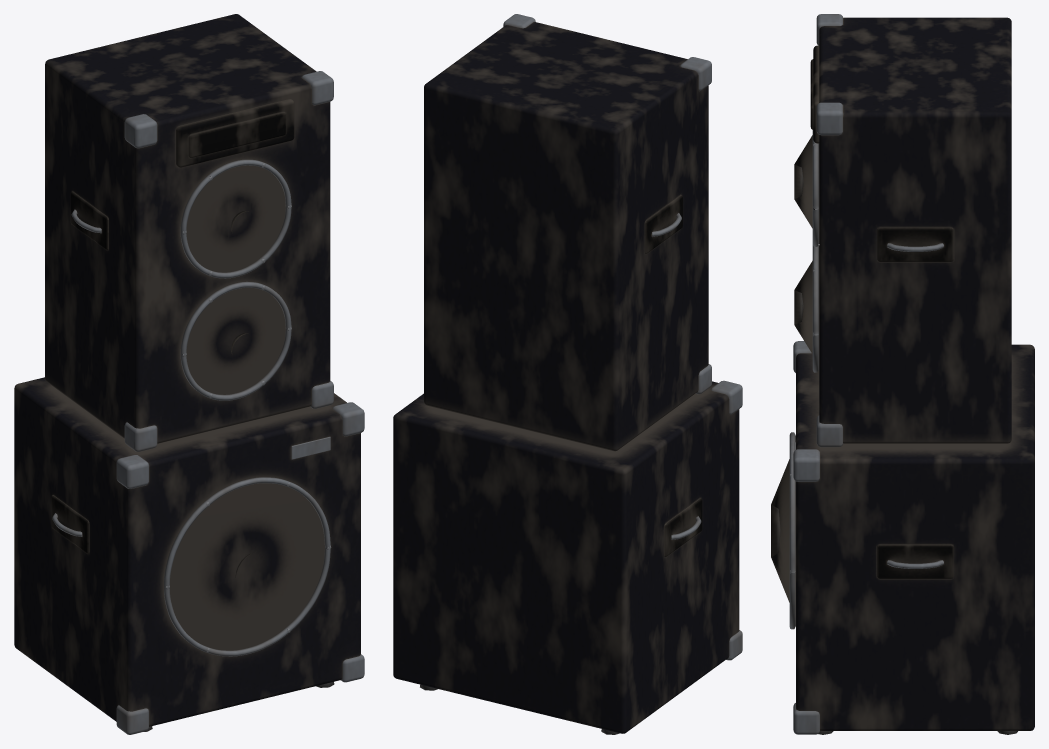
Rendered from klub_glosnik.glb.
3 views of the same model, side by side, from view 1: azimuth 30°, elevation 25°; view 2: azimuth 150°, elevation 25°; view 3: azimuth 270°, elevation 25° (orthographic). The views are drawn at different scales.
Visible parts, largest first — view 1: Glosnik; view 2: Glosnik; view 3: Glosnik.
Boxes of the visible parts, box(x1,y1,x2,y2) form: Glosnik: box(14, 14, 364, 734); Glosnik: box(393, 14, 742, 734); Glosnik: box(771, 14, 1034, 734).
Bounding box in the file's own units: 0.7934 × 1.78 × 0.685.
1 material, 1 textured.
